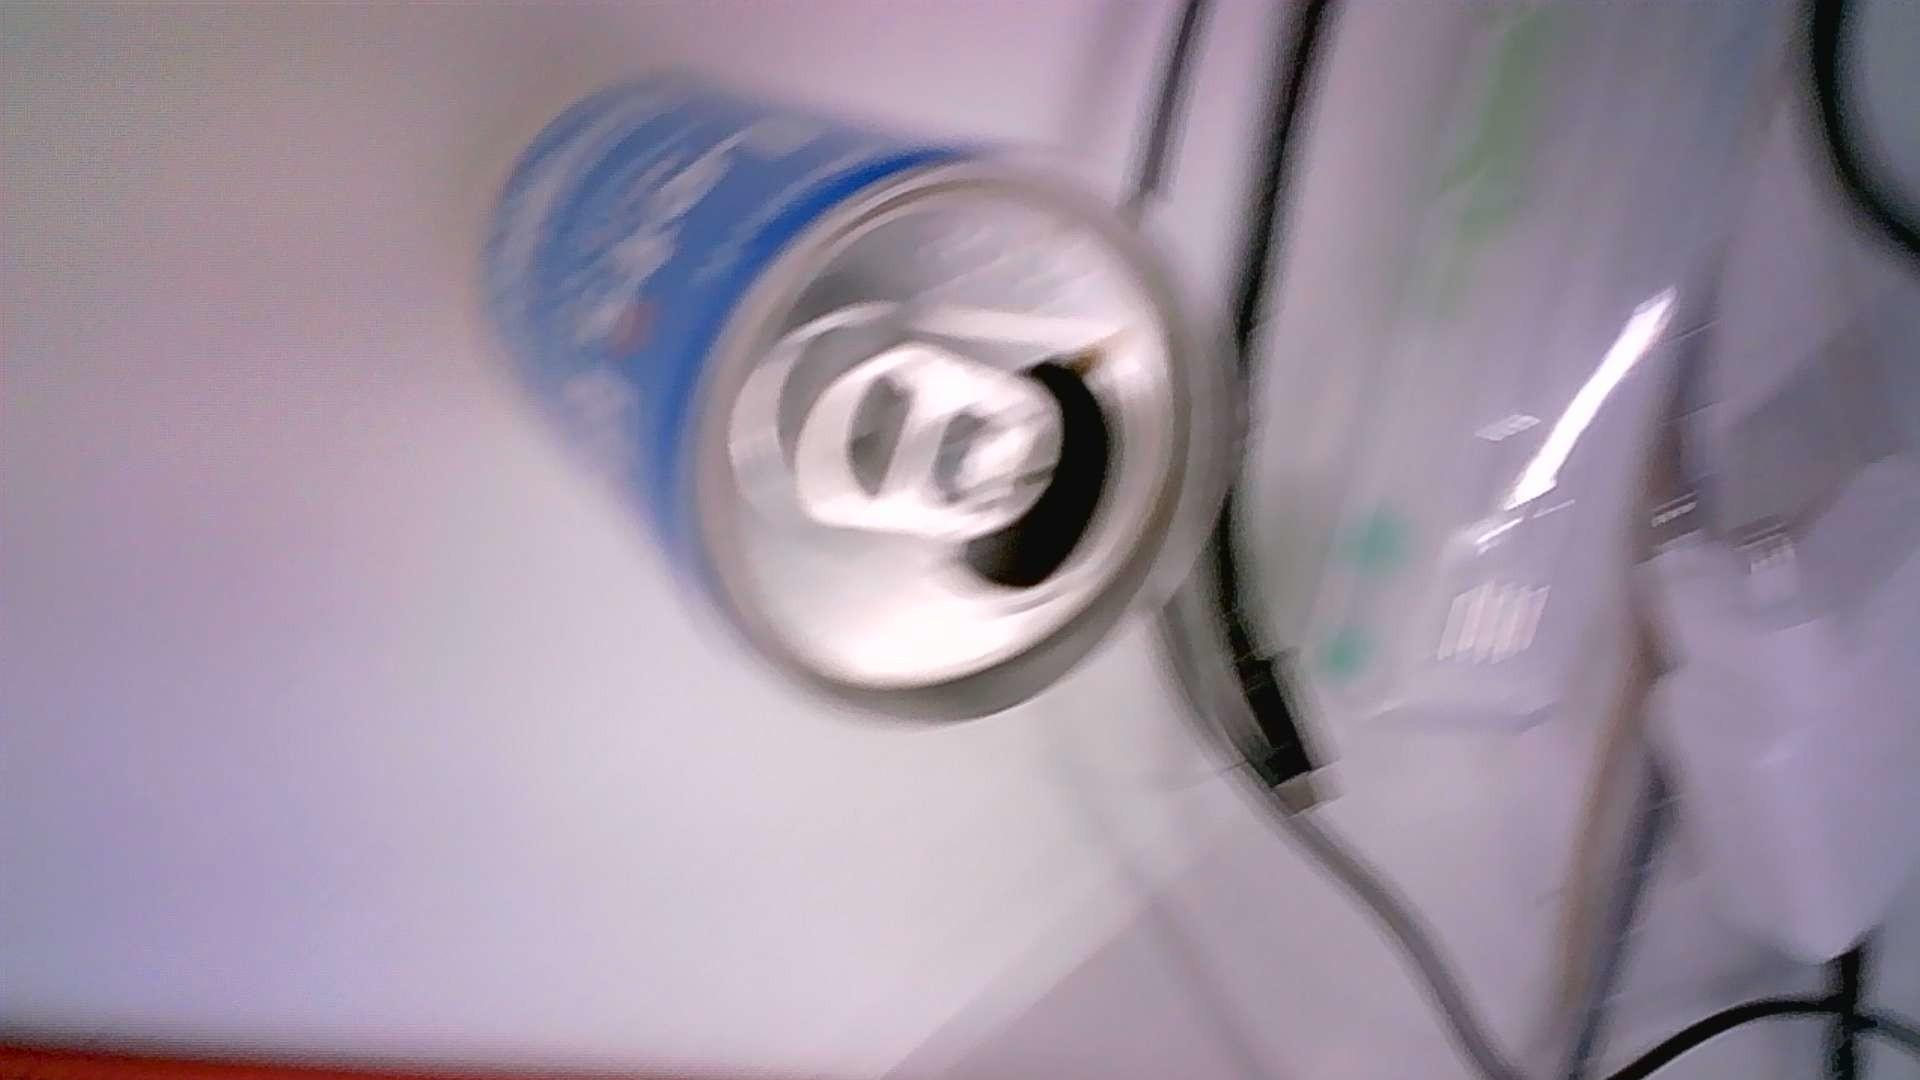letsbe: (479, 62, 1241, 725)
